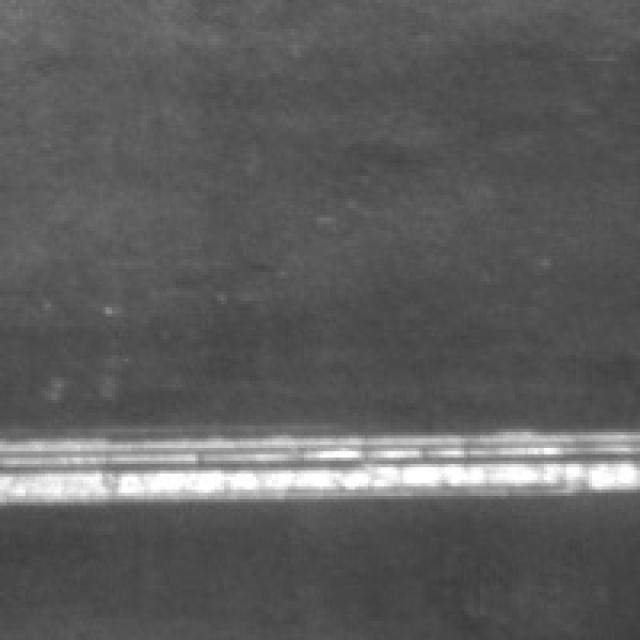scratches: (3, 406, 640, 512)
